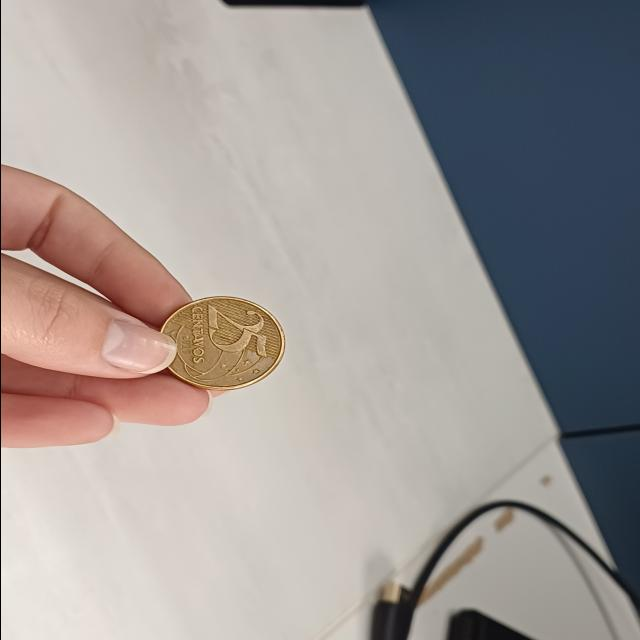25 cents: (153, 295, 290, 396)
